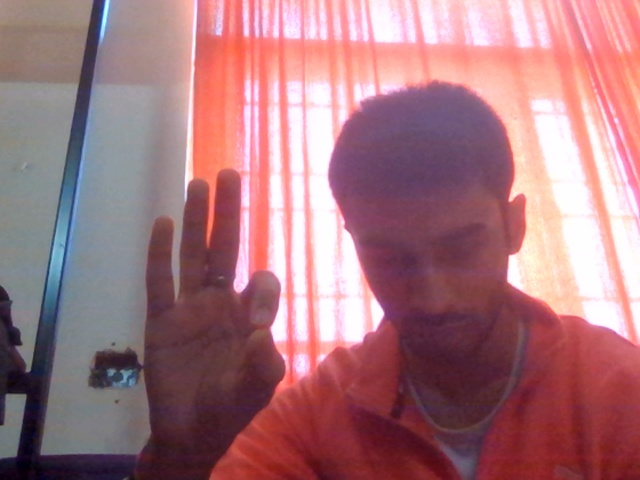F: (118, 151, 300, 468)
